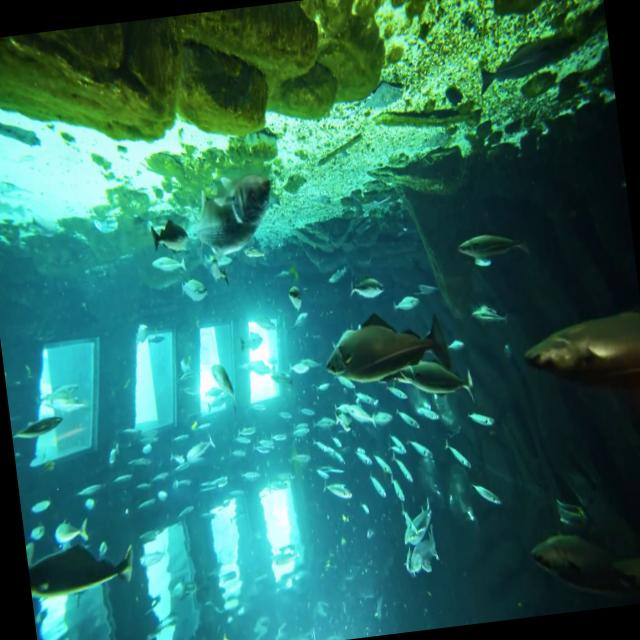fish: (320, 304, 453, 394), (517, 306, 640, 390), (26, 539, 137, 601), (452, 232, 527, 268)
